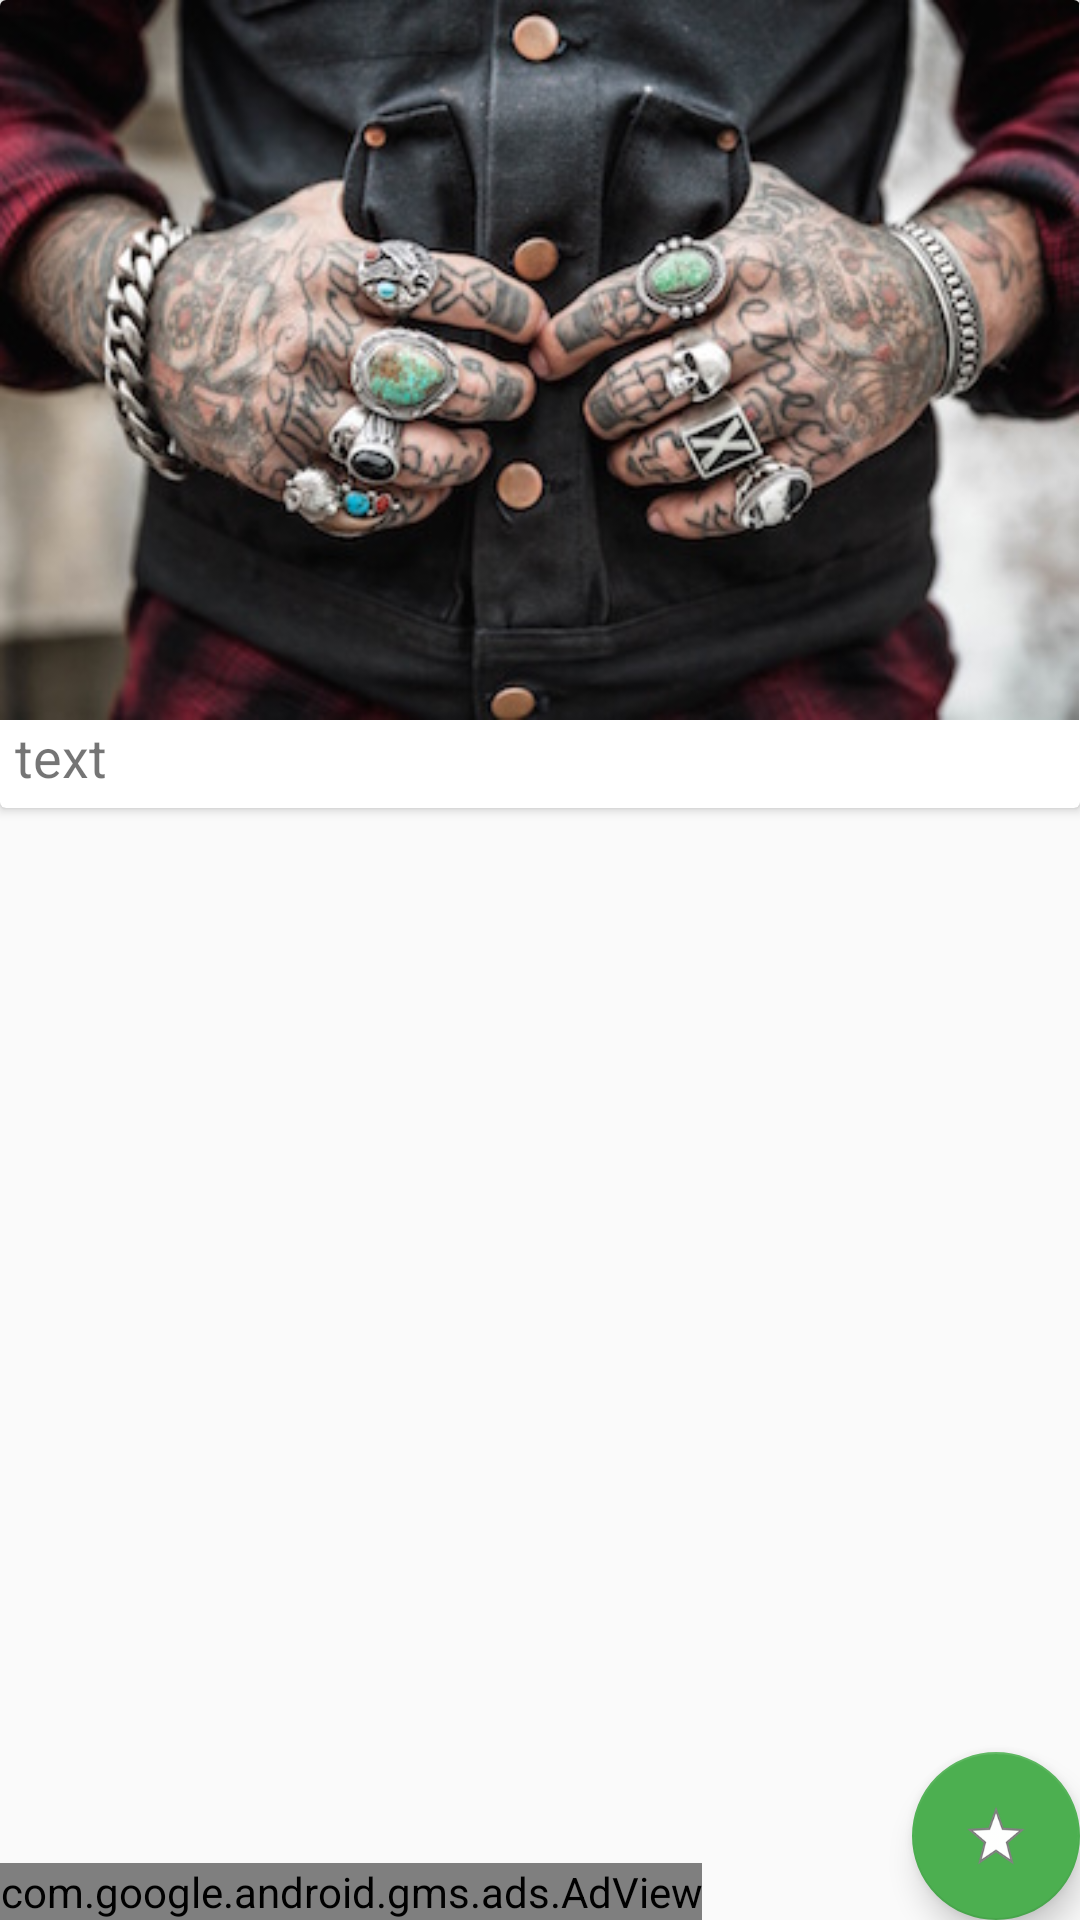

Named icons in this screenshot (1080w x 1920h) and their centers, (x=x, y=y):
Add to favorites button: (x=996, y=1836)
